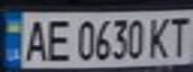0: (75, 16, 96, 62), (127, 16, 148, 61)
3: (112, 16, 130, 61)
6: (93, 17, 115, 62)
A: (21, 17, 51, 63)
E: (42, 16, 72, 63)
K: (145, 13, 175, 60)
T: (166, 12, 193, 57)
